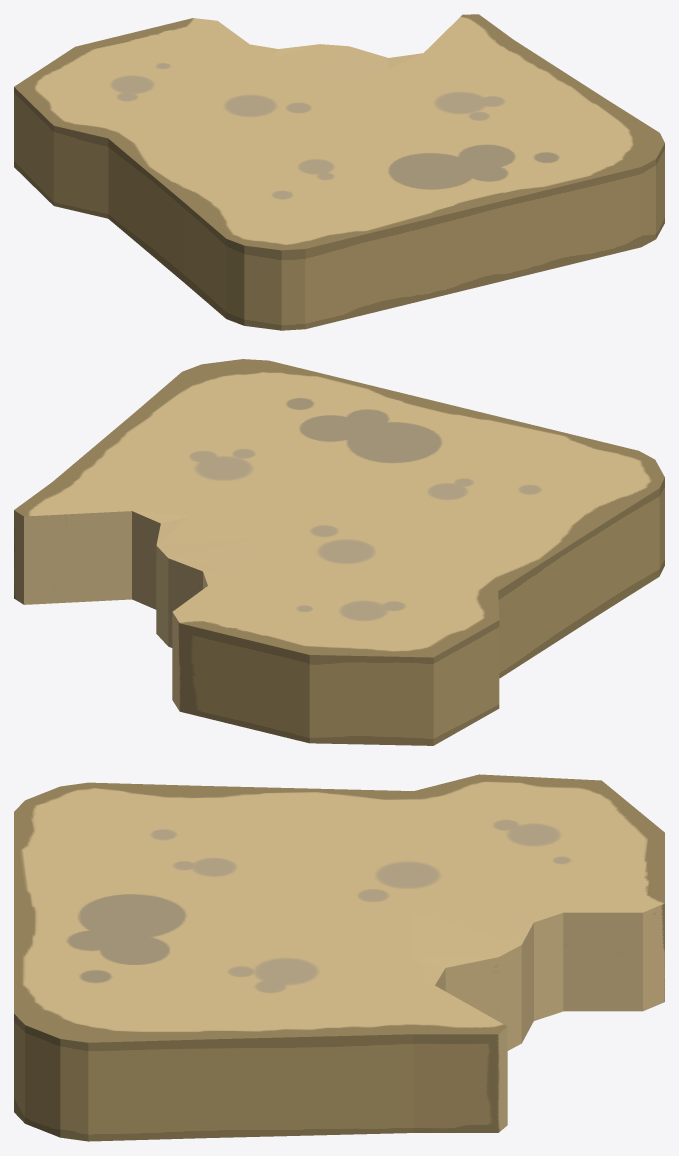
Rendered from RS_StaleBread.fbx.
The picture shows the model from 3 angles, top to bottom: view 1: azimuth 30°, elevation 25°; view 2: azimuth 150°, elevation 25°; view 3: azimuth 270°, elevation 25°; orthographic projection. The views are drawn at different scales.
Visible parts, largest first — view 1: Cube; view 2: Cube; view 3: Cube.
Boxes of the visible parts, left/top/right/bottom form: Cube: left=14, top=14, right=664, bottom=330; Cube: left=14, top=359, right=664, bottom=745; Cube: left=14, top=774, right=664, bottom=1141.
Size of the model in its own units: 15.22 by 2.64 by 15.61.
1 material, 1 textured.
